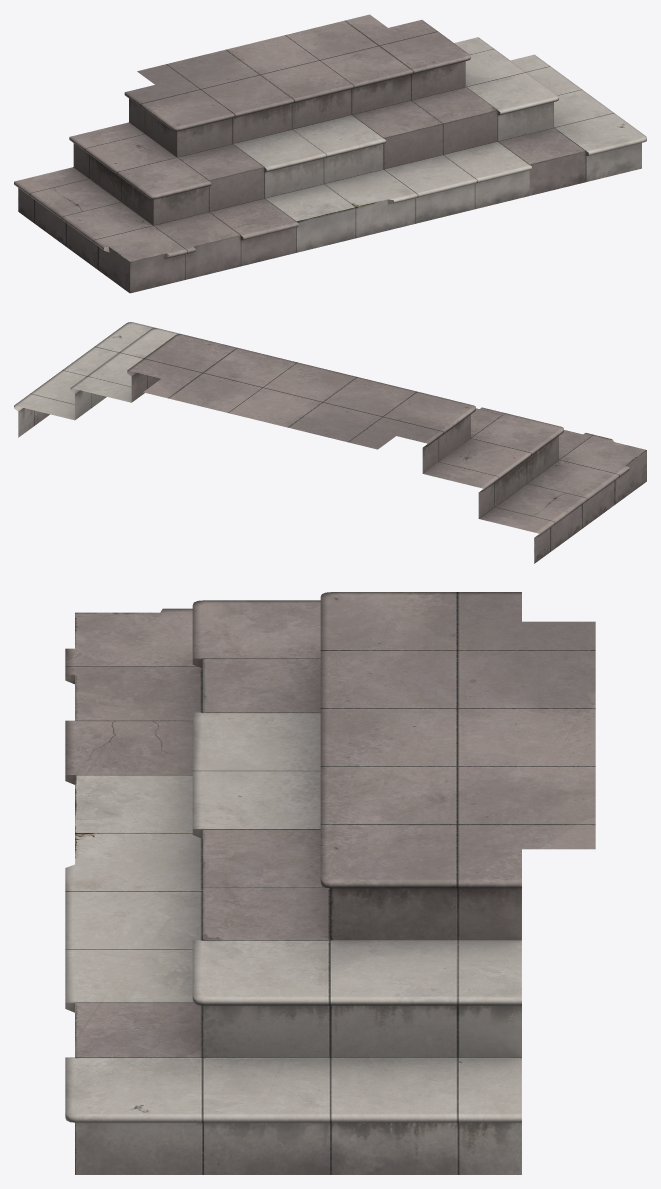
File: stairs.glb
3 renders of one model, top to bottom at view 1: azimuth 30°, elevation 25°; view 2: azimuth 150°, elevation 25°; view 3: azimuth 270°, elevation 25°, orthographic. The views are drawn at different scales.
Parts seen in each view (by area): view 1: Low-1_02 - Default_0; view 2: Low-1_02 - Default_0; view 3: Low-1_02 - Default_0.
Boxes of the visible parts, x1,y1,x2,y2 form: Low-1_02 - Default_0: (14,14,646,293); Low-1_02 - Default_0: (14,322,646,563); Low-1_02 - Default_0: (65,592,595,1174).
Bounding box in the file's own units: 2.62 × 0.45 × 1.16.
1 material, 1 textured.
